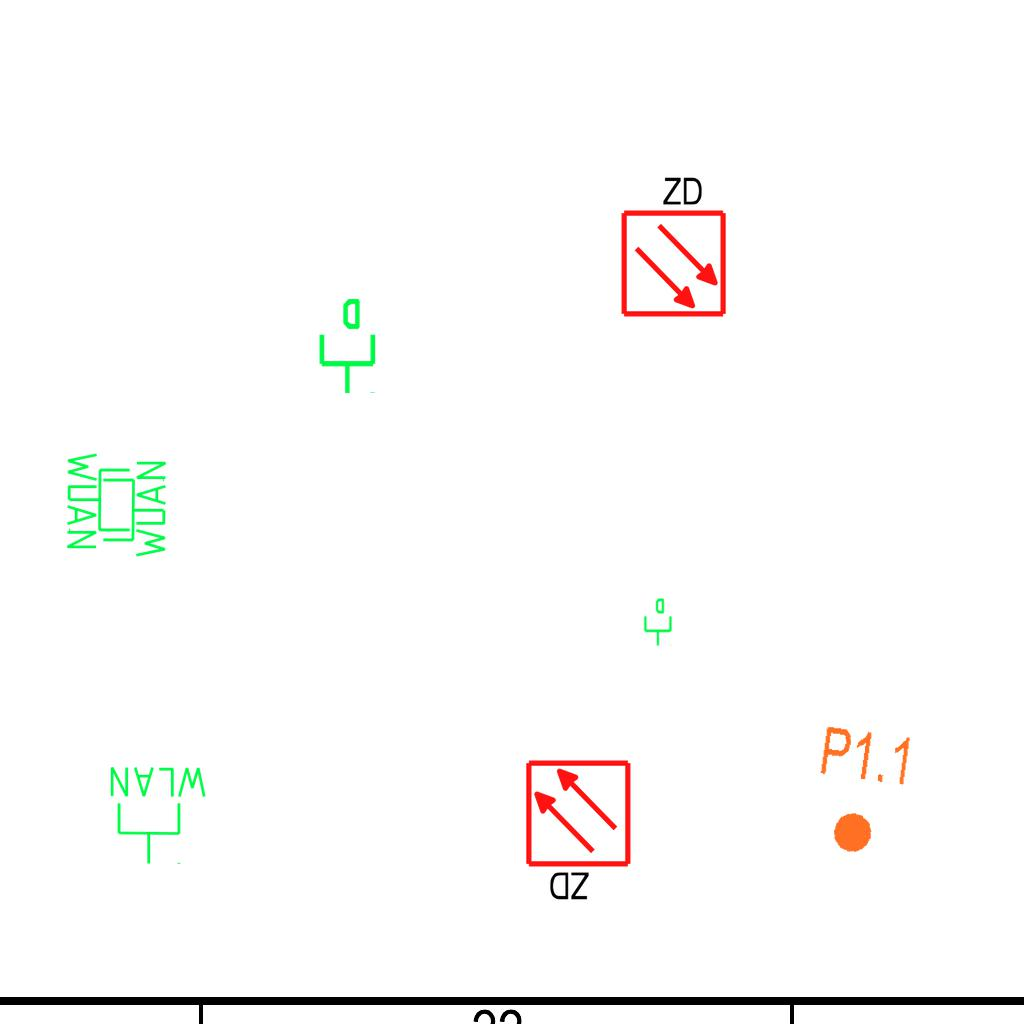Datenanschluss_einfach: (311, 296, 380, 396), (640, 597, 674, 647)
Downlight_LED_Einbauleuchten_Flur: (806, 722, 917, 862)
WLAN: (106, 763, 211, 867), (63, 448, 167, 553), (66, 457, 170, 562)
ZD_Melder_in_Zwischendecke_mit_Revisionsoeffnung_mind_40_x_40_cm: (615, 170, 729, 319), (523, 758, 637, 907)
